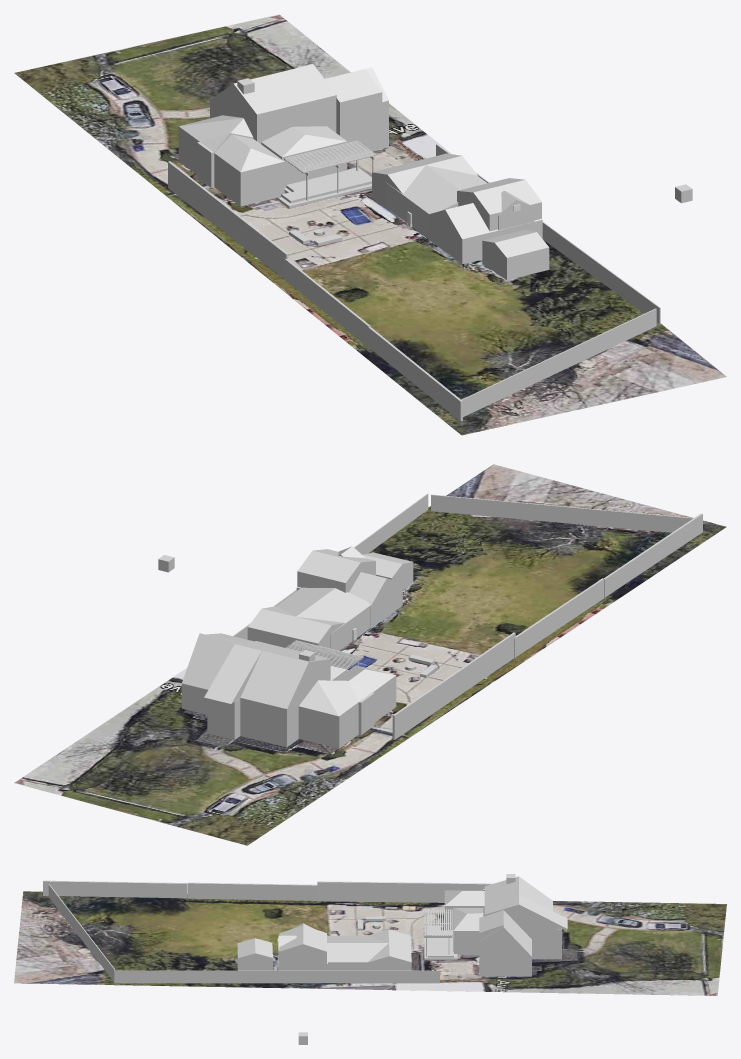
Rendered from backyard.glb.
3 renders of one model, top to bottom at view 1: azimuth 30°, elevation 25°; view 2: azimuth 150°, elevation 25°; view 3: azimuth 270°, elevation 25°, orthographic. The views are drawn at different scales.
Visible parts, largest first — view 1: Backyard Screenshot_1, Cube.021, Cube.023, Cube.025, Cube.018, Cube.001, Cube.010, Cube.014, Cube.005, Cube.022, Cube.019, Cube.004 (+5 smaller); view 2: Backyard Screenshot_1, Cube.023, Cube.021, Cube.018, Cube.001, Cube.010, Cube.025, Cube.009, Cube.015, Cube.004, Cube.003, Cube.014 (+2 smaller); view 3: Backyard Screenshot_1, Cube.019, Cube.023, Cube.025, Cube.001, Cube.004, Cube.003, Cube.015, Cube.010, Cube.009, Cube.022, Cube.005 (+3 smaller).
Boxes of the visible parts, x1=… form: Backyard Screenshot_1: x1=14, y1=14, x2=726, y2=435; Cube.021: x1=178, y1=115, x2=284, y2=206; Cube.023: x1=210, y1=64, x2=336, y2=143; Cube.025: x1=325, y1=67, x2=388, y2=151; Cube.018: x1=461, y1=308, x2=656, y2=416; Cube.001: x1=168, y1=161, x2=288, y2=278; Cube.010: x1=386, y1=165, x2=487, y2=237; Cube.014: x1=428, y1=203, x2=542, y2=264; Cube.005: x1=482, y1=230, x2=549, y2=280; Cube.022: x1=261, y1=126, x2=347, y2=187; Cube.019: x1=436, y1=144, x2=660, y2=324; Cube.004: x1=368, y1=327, x2=462, y2=421; Backyard Screenshot_1: x1=14, y1=464, x2=726, y2=845; Cube.023: x1=204, y1=641, x2=330, y2=747; Cube.021: x1=298, y1=665, x2=396, y2=748; Cube.018: x1=431, y1=494, x2=693, y2=532; Cube.001: x1=392, y1=632, x2=515, y2=739; Cube.010: x1=276, y1=587, x2=370, y2=650; Cube.025: x1=181, y1=633, x2=253, y2=714; Cube.009: x1=247, y1=606, x2=344, y2=648; Cube.015: x1=297, y1=549, x2=375, y2=592; Cube.004: x1=604, y1=513, x2=702, y2=597; Cube.003: x1=514, y1=578, x2=604, y2=657; Cube.014: x1=296, y1=572, x2=402, y2=628; Backyard Screenshot_1: x1=14, y1=891, x2=726, y2=995; Cube.019: x1=114, y1=970, x2=439, y2=983; Cube.023: x1=484, y1=876, x2=567, y2=959; Cube.025: x1=479, y1=910, x2=531, y2=976; Cube.001: x1=317, y1=881, x2=492, y2=902; Cube.004: x1=43, y1=880, x2=187, y2=898; Cube.003: x1=187, y1=882, x2=317, y2=900; Cube.015: x1=279, y1=925, x2=326, y2=970; Cube.010: x1=327, y1=935, x2=388, y2=970; Cube.009: x1=367, y1=929, x2=411, y2=970; Cube.022: x1=453, y1=908, x2=483, y2=955; Cube.005: x1=237, y1=938, x2=272, y2=970.
Bounding box in the file's own units: 75.18 × 14.6 × 152.
Materials: 9 (1 with a texture image).
